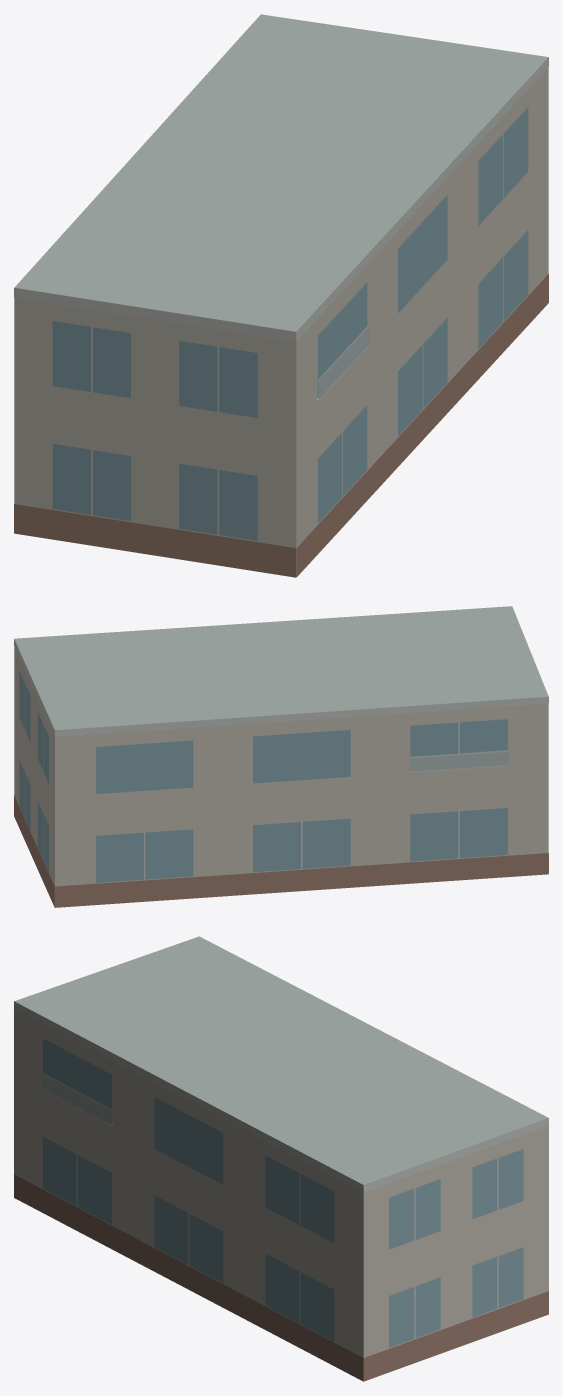
Rendered from survey-upis-32574508.glb.
3 renders of one model, top to bottom at view 1: azimuth 30°, elevation 25°; view 2: azimuth 150°, elevation 25°; view 3: azimuth 270°, elevation 25°, orthographic. The views are drawn at different scales.
Visible parts, largest first — view 1: survey-upis-32574508.tmp; view 2: survey-upis-32574508.tmp; view 3: survey-upis-32574508.tmp.
Boxes of the visible parts, bbox=[...] form: survey-upis-32574508.tmp: bbox=[14, 14, 548, 577]; survey-upis-32574508.tmp: bbox=[14, 606, 548, 907]; survey-upis-32574508.tmp: bbox=[14, 936, 548, 1381].
Bounding box in the file's own units: 16.56 × 6.1 × 15.05.
